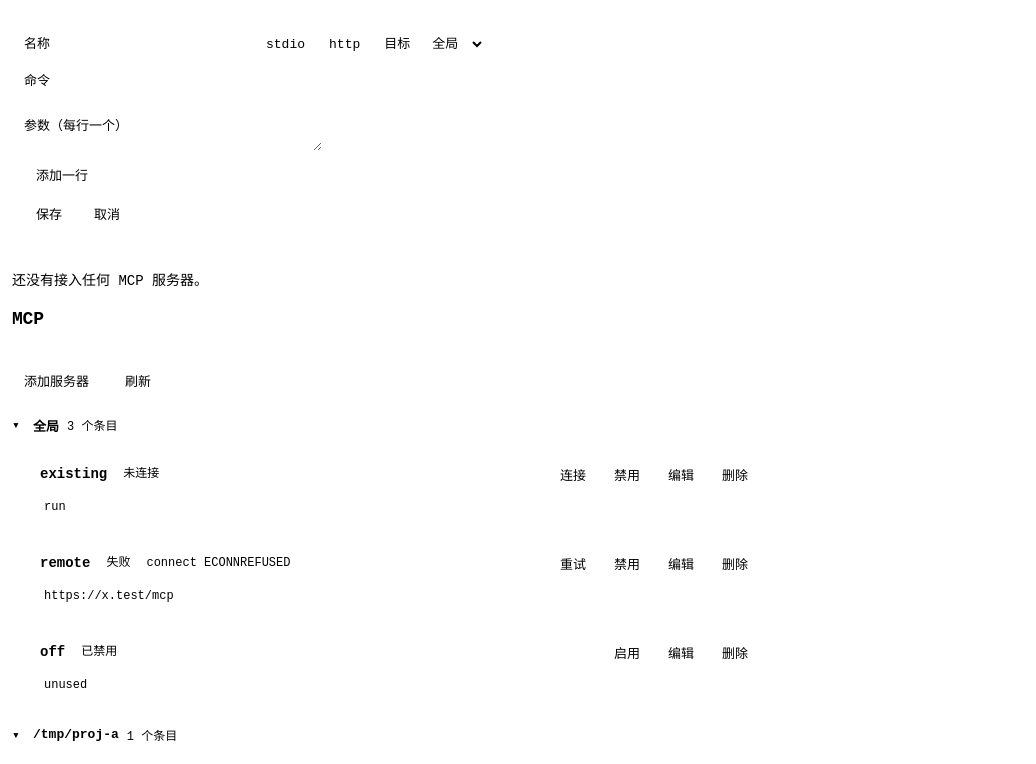
Test: McpView form (add / edit / move / delete) › uses the server defaultGroup when the session workdir isn't a known group (the server skipped it)
(page scrolled)
Step 1. Click the 2nd button with test id "mcp-add" → click(56, 380), box left=12, top=364, right=101, bottom=396
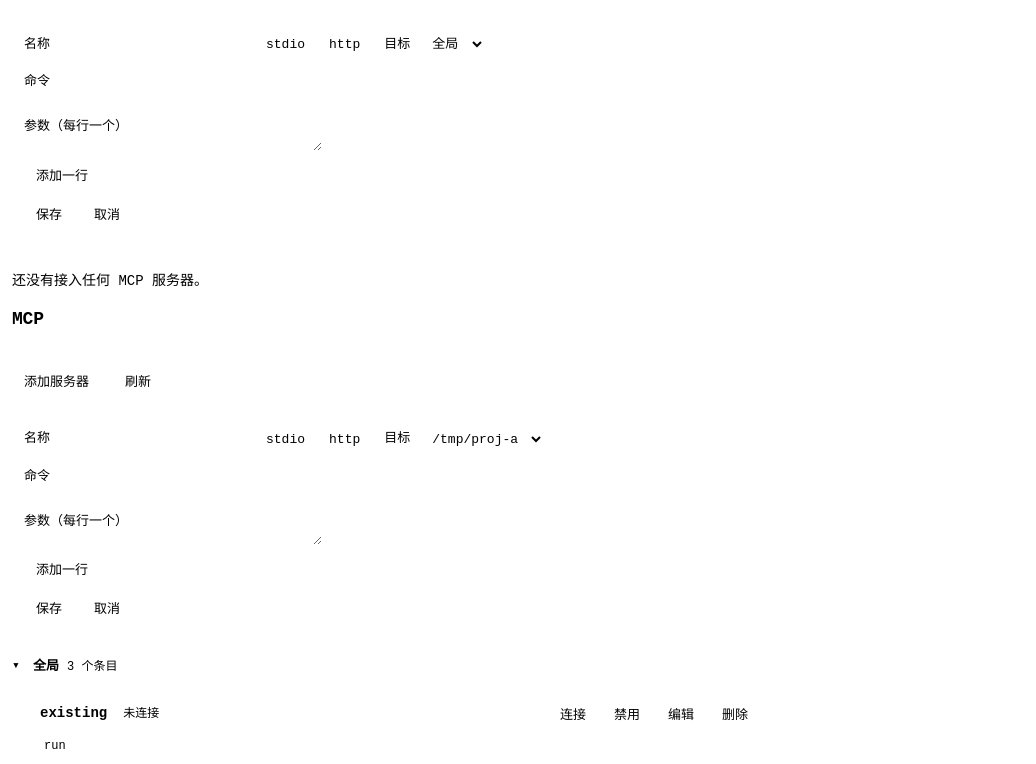
expect the 2nd dropdown with test id "mcp-form-group" shows "/tmp/proj-a": met, box left=418, top=424, right=544, bottom=454
